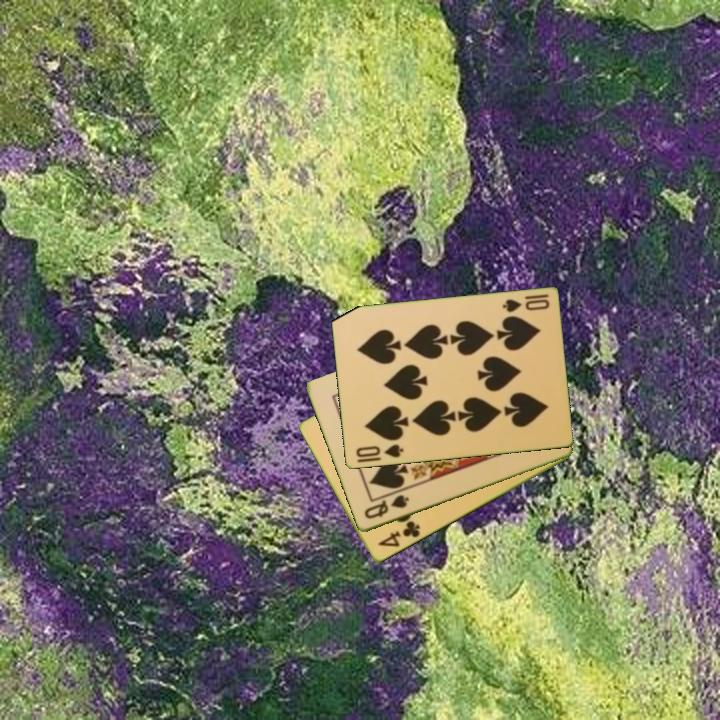10s: (499, 291, 552, 315), (352, 441, 406, 461)
4c: (374, 518, 423, 550)
Qs: (360, 492, 412, 522)
